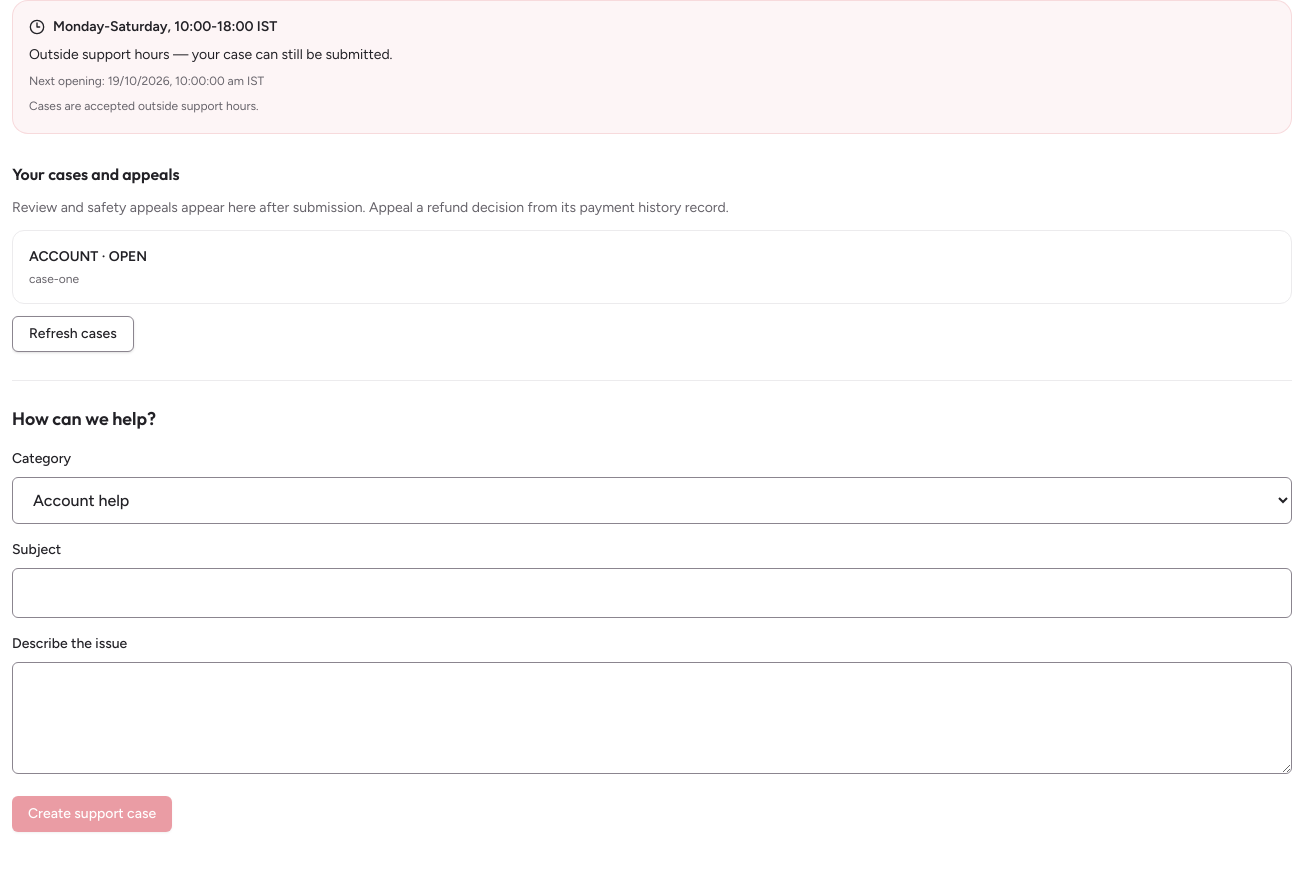
Test: clears previously opened private support content when the session no longer authorizes reads
The width and height of the screenshot is (1304, 880).
What coordinates should you click on to do the following:
click the button with aria-label "Open case case-one"
I would click on:
 (64, 256)
Its box is [12,230,1292,304].
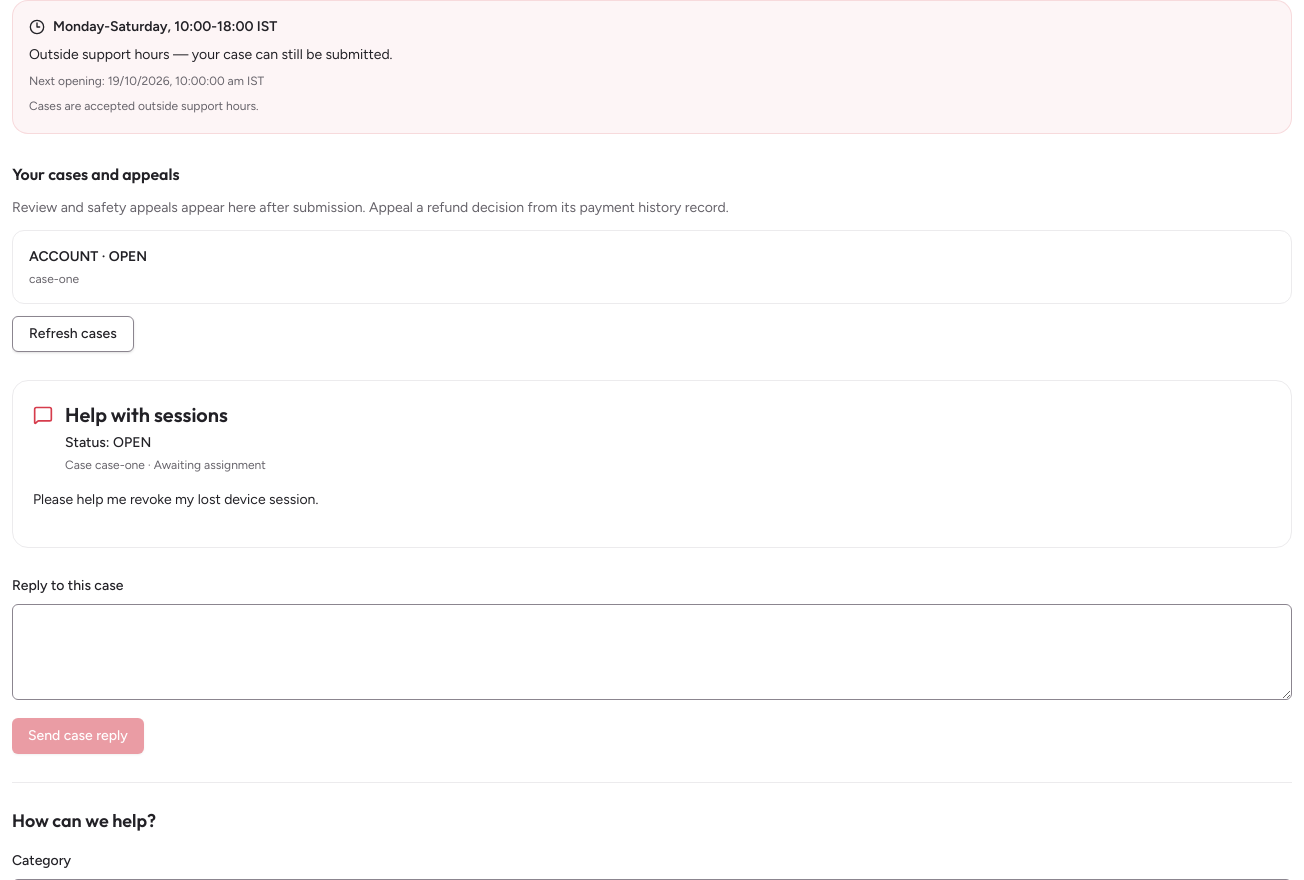
Now the text "Please help me revoke my lost device session." is shown, box [33,490,318,508]
What coordinates should you click on to do the following:
click the button "Refresh cases"
I would click on:
 (73, 334)
Its box is [12,316,134,352].
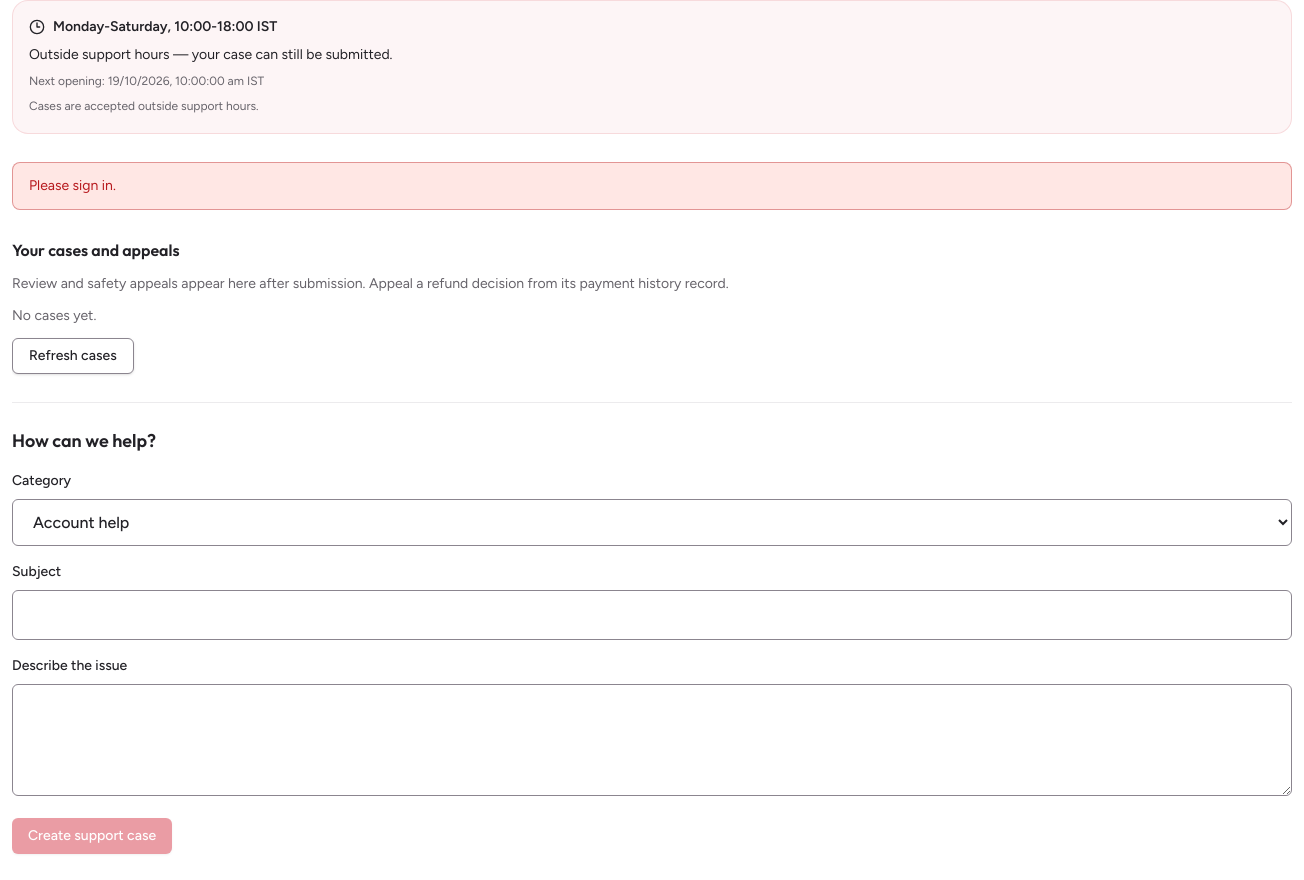
Now the text "Please sign in." is shown, box [12,162,1292,210]
Now the text "Please help me revoke my lost device session." is gone
Now the button "OPEN Case case-one" is gone
